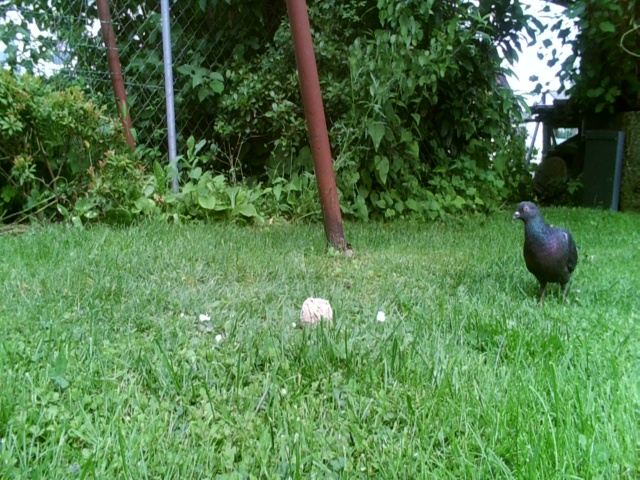Pigeon: (501, 193, 589, 307)
